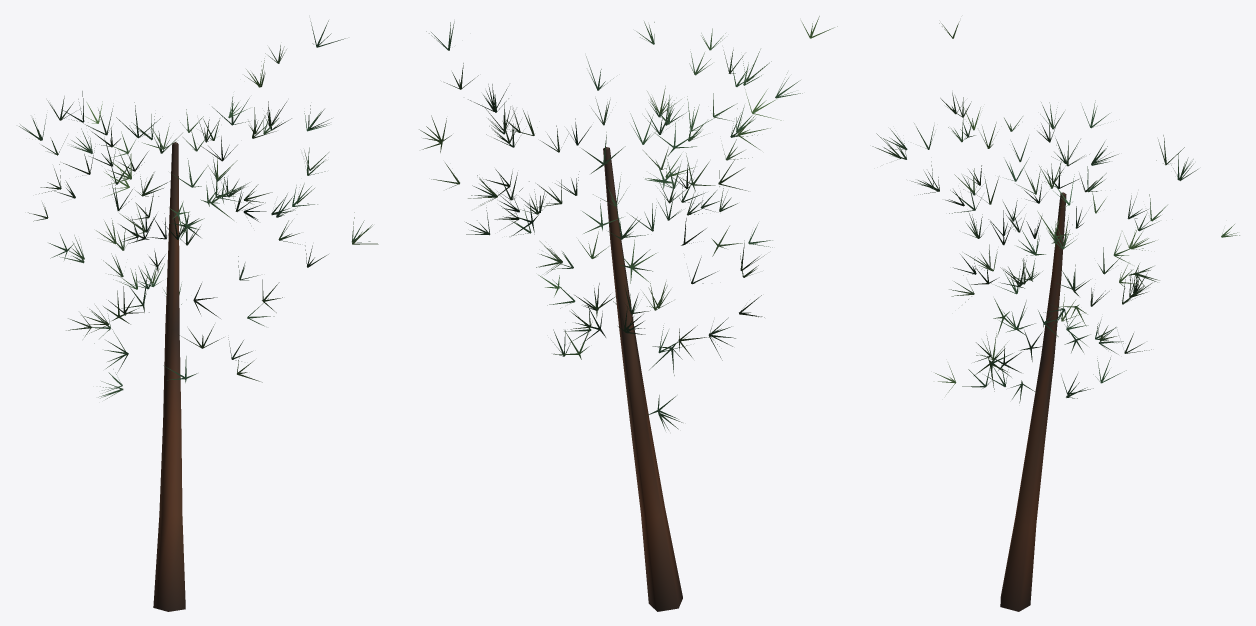
Rendered from pine-b.lod2.glb.
3 views of the same model, side by side, from view 1: azimuth 30°, elevation 25°; view 2: azimuth 150°, elevation 25°; view 3: azimuth 270°, elevation 25° (orthographic). The views are drawn at different scales.
Size of the model in its own units: 7.1 by 11.59 by 7.29.
